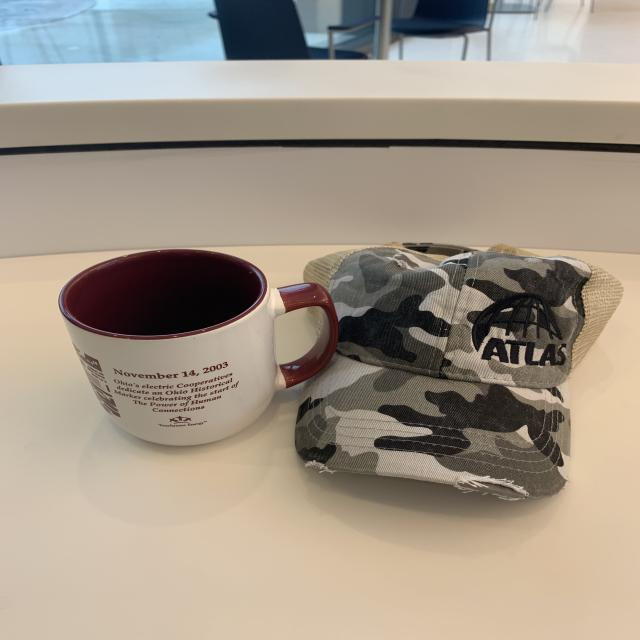Cup: (52, 247, 341, 448)
